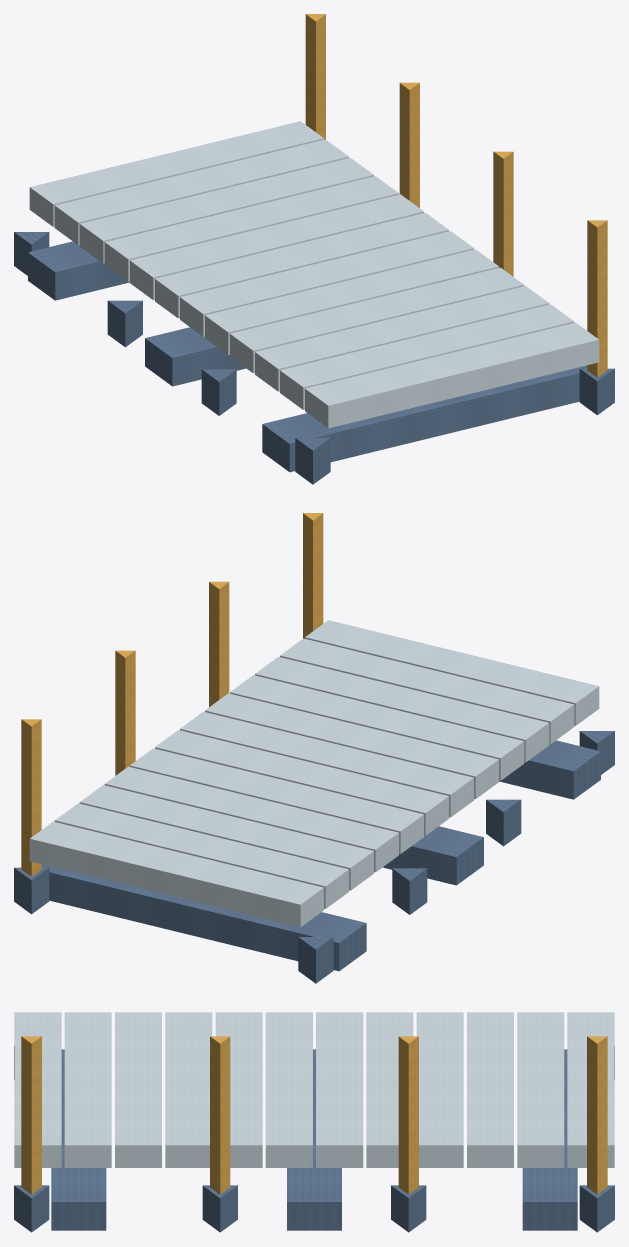
Rendered from atlas100-s058-a01.lod2.glb.
The picture shows the model from 3 angles, top to bottom: view 1: azimuth 30°, elevation 25°; view 2: azimuth 150°, elevation 25°; view 3: azimuth 270°, elevation 25°; orthographic projection.
Parts seen in each view (by area): view 1: atlas100-s058-a01:part-011, atlas100-s058-a01:part-032, atlas100-s058-a01:part-002, atlas100-s058-a01:part-003, atlas100-s058-a01:part-000, atlas100-s058-a01:part-001, atlas100-s058-a01:part-010, atlas100-s058-a01:part-006, atlas100-s058-a01:part-008, atlas100-s058-a01:part-009, atlas100-s058-a01:part-004, atlas100-s058-a01:part-005 (+12 smaller); view 2: atlas100-s058-a01:part-000, atlas100-s058-a01:part-030, atlas100-s058-a01:part-008, atlas100-s058-a01:part-009, atlas100-s058-a01:part-010, atlas100-s058-a01:part-011, atlas100-s058-a01:part-001, atlas100-s058-a01:part-002, atlas100-s058-a01:part-003, atlas100-s058-a01:part-005, atlas100-s058-a01:part-006, atlas100-s058-a01:part-007 (+12 smaller); view 3: atlas100-s058-a01:part-001, atlas100-s058-a01:part-005, atlas100-s058-a01:part-006, atlas100-s058-a01:part-010, atlas100-s058-a01:part-002, atlas100-s058-a01:part-009, atlas100-s058-a01:part-003, atlas100-s058-a01:part-008, atlas100-s058-a01:part-004, atlas100-s058-a01:part-007, atlas100-s058-a01:part-000, atlas100-s058-a01:part-011 (+11 smaller).
Boxes of the visible parts, bbox=[...] form: atlas100-s058-a01:part-011: bbox=[305, 322, 599, 428]; atlas100-s058-a01:part-032: bbox=[262, 365, 587, 472]; atlas100-s058-a01:part-002: bbox=[79, 158, 373, 263]; atlas100-s058-a01:part-003: bbox=[104, 176, 398, 281]; atlas100-s058-a01:part-000: bbox=[29, 121, 323, 226]; atlas100-s058-a01:part-001: bbox=[54, 139, 348, 245]; atlas100-s058-a01:part-010: bbox=[280, 304, 574, 409]; atlas100-s058-a01:part-006: bbox=[180, 231, 473, 336]; atlas100-s058-a01:part-008: bbox=[230, 267, 524, 373]; atlas100-s058-a01:part-009: bbox=[255, 286, 549, 391]; atlas100-s058-a01:part-004: bbox=[130, 194, 423, 300]; atlas100-s058-a01:part-005: bbox=[155, 212, 448, 318]; atlas100-s058-a01:part-000: bbox=[29, 821, 323, 927]; atlas100-s058-a01:part-030: bbox=[41, 864, 366, 971]; atlas100-s058-a01:part-008: bbox=[230, 675, 524, 780]; atlas100-s058-a01:part-009: bbox=[255, 657, 549, 762]; atlas100-s058-a01:part-010: bbox=[280, 638, 574, 744]; atlas100-s058-a01:part-011: bbox=[305, 620, 599, 725]; atlas100-s058-a01:part-001: bbox=[54, 803, 348, 908]; atlas100-s058-a01:part-002: bbox=[79, 785, 373, 890]; atlas100-s058-a01:part-003: bbox=[104, 766, 398, 872]; atlas100-s058-a01:part-005: bbox=[155, 730, 448, 835]; atlas100-s058-a01:part-006: bbox=[180, 711, 473, 817]; atlas100-s058-a01:part-007: bbox=[205, 693, 498, 799]; atlas100-s058-a01:part-001: bbox=[517, 1012, 564, 1167]; atlas100-s058-a01:part-005: bbox=[316, 1012, 363, 1167]; atlas100-s058-a01:part-006: bbox=[265, 1012, 312, 1167]; atlas100-s058-a01:part-010: bbox=[64, 1012, 111, 1167]; atlas100-s058-a01:part-002: bbox=[467, 1012, 513, 1167]; atlas100-s058-a01:part-009: bbox=[115, 1012, 161, 1167]; atlas100-s058-a01:part-003: bbox=[416, 1012, 463, 1167]; atlas100-s058-a01:part-008: bbox=[165, 1012, 212, 1167]; atlas100-s058-a01:part-004: bbox=[366, 1012, 413, 1167]; atlas100-s058-a01:part-007: bbox=[215, 1012, 262, 1167]; atlas100-s058-a01:part-000: bbox=[567, 1012, 614, 1167]; atlas100-s058-a01:part-011: bbox=[14, 1012, 61, 1167].
Bounding box in the file's own units: 2.33 × 1.3 × 3.83.
Materials: 3 (3 with a texture image).
